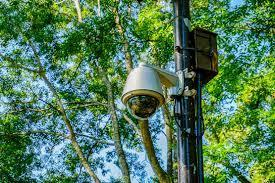maru: (114, 55, 175, 132)
